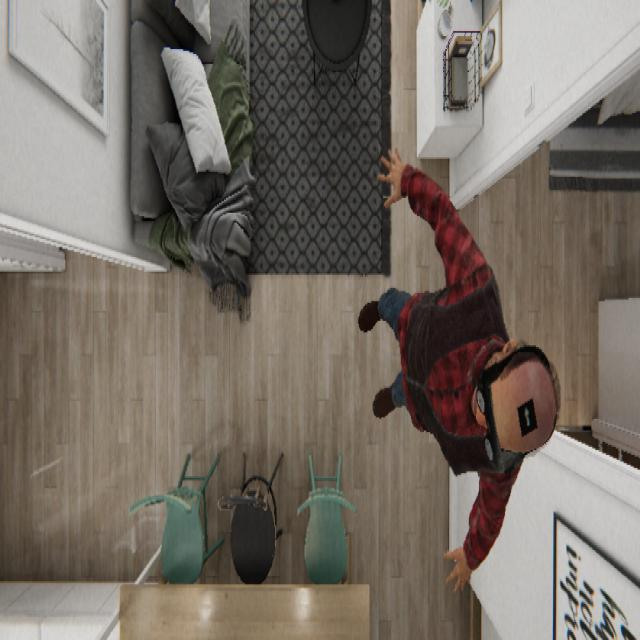Human: (357, 144, 561, 593)
UnityLogo: (482, 340, 560, 465), (516, 395, 538, 437)
